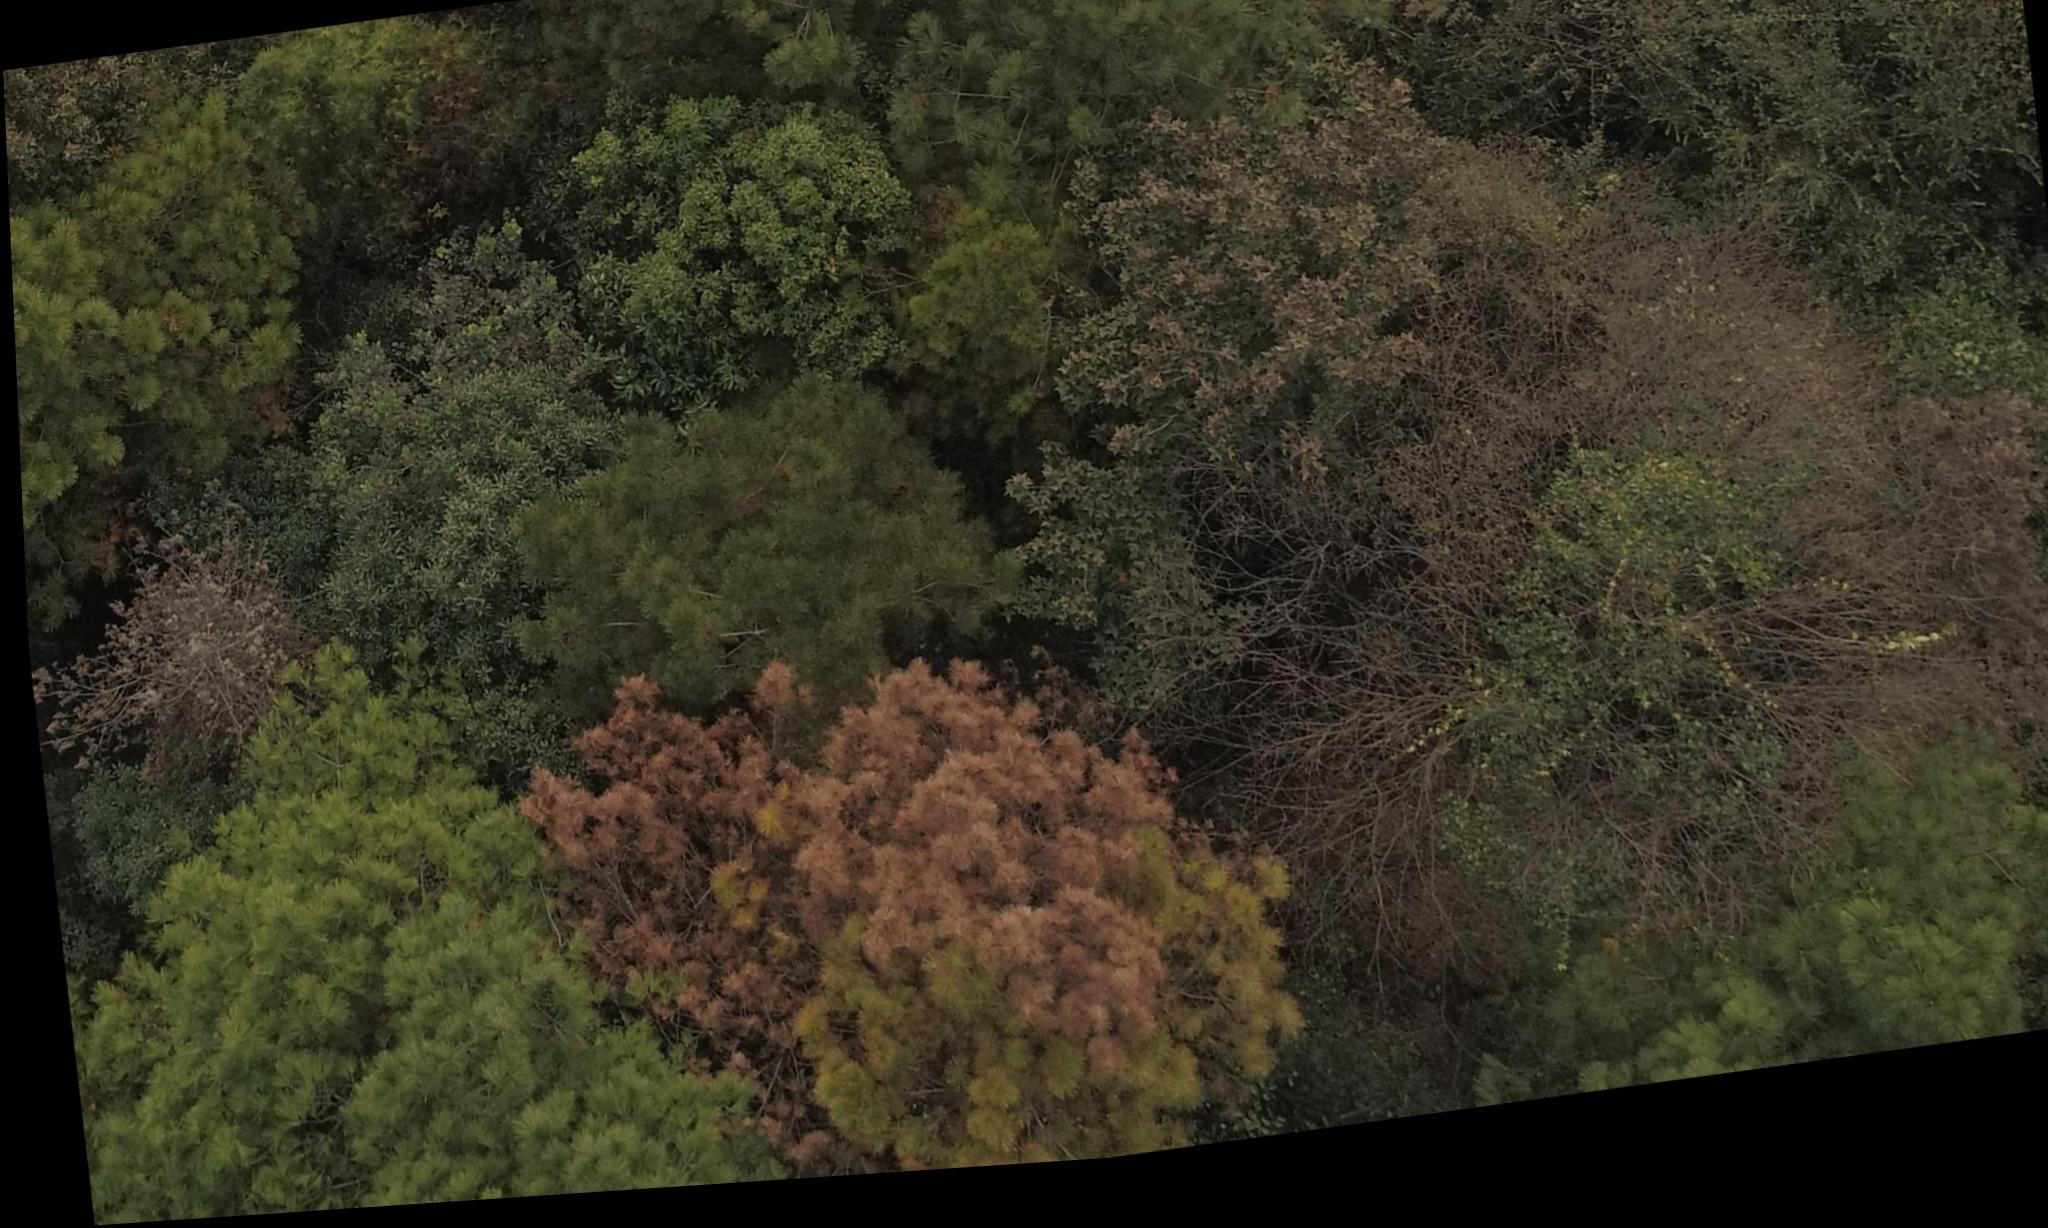heavy: (795, 639, 1316, 1187)
light: (509, 674, 816, 1083)
